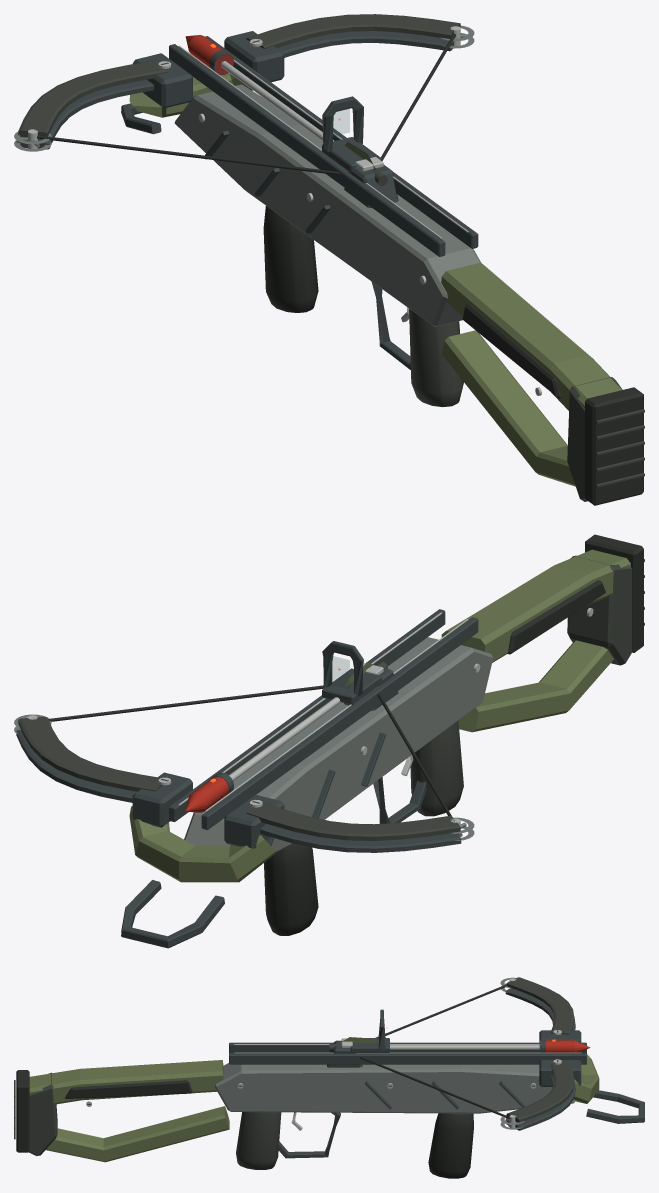
File: vm_xbow.glb
The picture shows the model from 3 angles, top to bottom: view 1: azimuth 30°, elevation 25°; view 2: azimuth 150°, elevation 25°; view 3: azimuth 270°, elevation 25°; orthographic projection. The views are drawn at different scales.
Visible parts, largest first — view 1: receiver, xbow__wk_paint_olive, xbow__wk_steel_blued, xbow__wk_rubber, xbow__wk_polymer, recurve_laminate_upper, recurve_laminate_upper.001, recurve_laminate_lower, xbow__wk_steel_bare, recurve_laminate_lower.001, cord_L, bolt_carbon_shaft (+1 smaller); view 2: xbow__wk_steel_blued, xbow__wk_paint_olive, receiver, xbow__wk_rubber, xbow__wk_polymer, recurve_laminate_upper.001, recurve_laminate_upper, recurve_laminate_lower.001, xbow__wk_steel_bare, recurve_laminate_lower, cord_R, bolt_carbon_shaft (+2 smaller); view 3: receiver, xbow__wk_steel_blued, xbow__wk_paint_olive, xbow__wk_rubber, xbow__wk_polymer, recurve_laminate_upper, recurve_laminate_upper.001, xbow__wk_steel_bare, bolt_carbon_shaft, recurve_laminate_lower, bolt_loaded__wk_shell_red, cord_R (+2 smaller).
Boxes of the visible parts, left/top/right/bottom form: receiver: left=174, top=84, right=480, bottom=326; xbow__wk_paint_olive: left=129, top=72, right=622, bottom=486; xbow__wk_steel_blued: left=121, top=31, right=478, bottom=369; xbow__wk_rubber: left=263, top=206, right=643, bottom=505; xbow__wk_polymer: left=409, top=309, right=644, bottom=501; recurve_laminate_upper: left=246, top=14, right=460, bottom=48; recurve_laminate_upper.001: left=18, top=60, right=167, bottom=137; recurve_laminate_lower: left=277, top=31, right=460, bottom=57; xbow__wk_steel_bare: left=158, top=39, right=541, bottom=395; recurve_laminate_lower.001: left=16, top=79, right=154, bottom=149; cord_L: left=37, top=135, right=340, bottom=175; bolt_carbon_shaft: left=221, top=61, right=334, bottom=141; xbow__wk_steel_blued: left=121, top=609, right=478, bottom=948; xbow__wk_paint_olive: left=129, top=549, right=630, bottom=882; receiver: left=184, top=637, right=493, bottom=852; xbow__wk_rubber: left=264, top=534, right=643, bottom=935; xbow__wk_polymer: left=410, top=555, right=644, bottom=816; recurve_laminate_upper.001: left=246, top=802, right=460, bottom=840; recurve_laminate_upper: left=18, top=716, right=161, bottom=791; recurve_laminate_lower.001: left=260, top=824, right=461, bottom=852; xbow__wk_steel_bare: left=158, top=608, right=593, bottom=811; recurve_laminate_lower: left=16, top=729, right=137, bottom=802; cord_R: left=48, top=685, right=323, bottom=721; bolt_carbon_shaft: left=229, top=697, right=340, bottom=780; receiver: left=215, top=1063, right=574, bottom=1113; xbow__wk_steel_blued: left=87, top=1009, right=644, bottom=1158; xbow__wk_paint_olive: left=29, top=1054, right=599, bottom=1162; xbow__wk_rubber: left=16, top=1070, right=473, bottom=1178; xbow__wk_polymer: left=14, top=1072, right=281, bottom=1169; recurve_laminate_upper: left=506, top=1062, right=574, bottom=1122; recurve_laminate_upper.001: left=506, top=977, right=574, bottom=1034; xbow__wk_steel_bare: left=86, top=1030, right=581, bottom=1130; bolt_carbon_shaft: left=390, top=1045, right=539, bottom=1049; recurve_laminate_lower: left=506, top=1075, right=575, bottom=1130; bolt_loaded__wk_shell_red: left=546, top=1040, right=590, bottom=1052; cord_R: left=359, top=1056, right=509, bottom=1119.
Bounding box in the file's own units: 0.3887 × 0.1999 × 0.7046.
